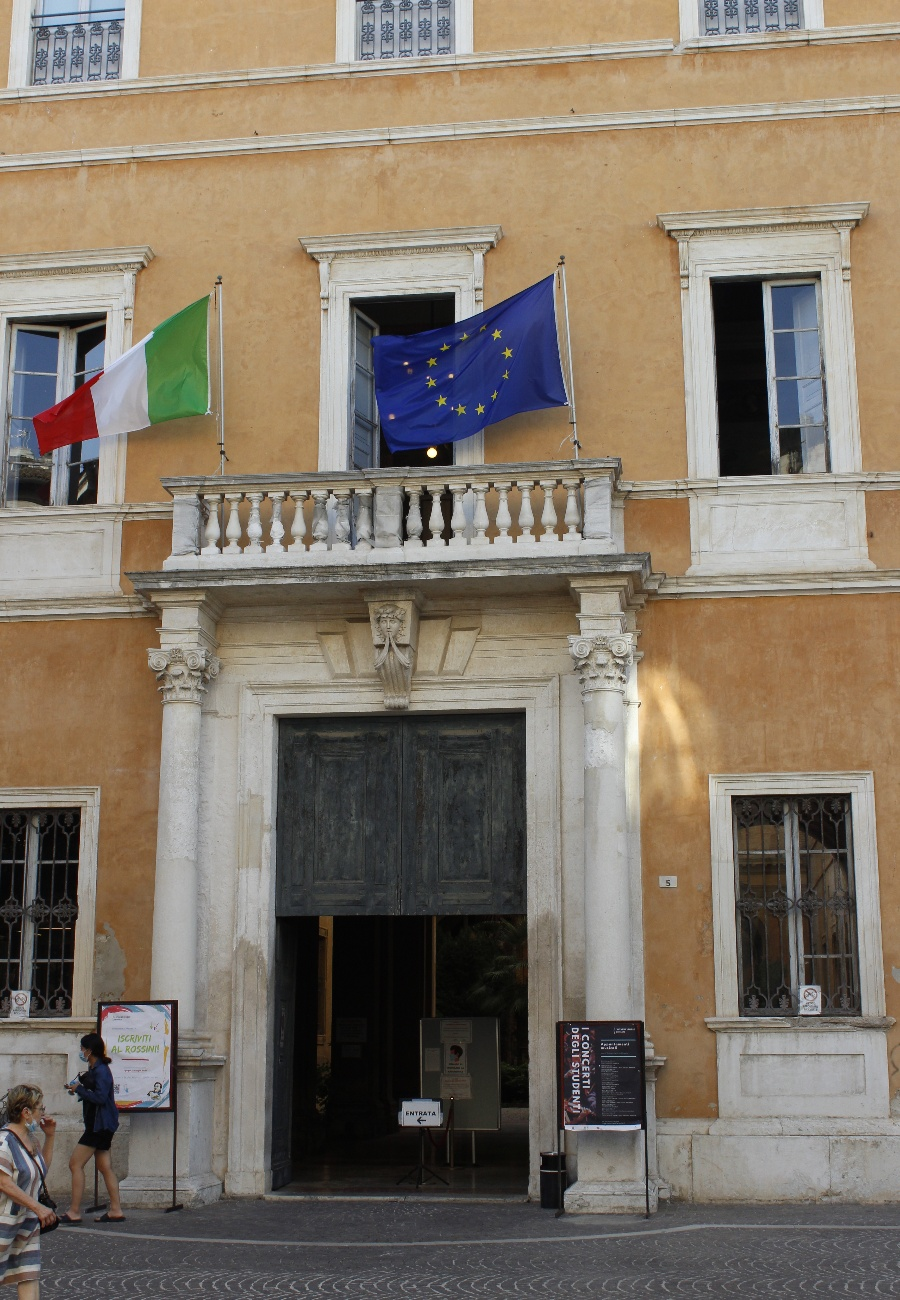Palazzo Olivieri: (4, 1, 900, 1206)
